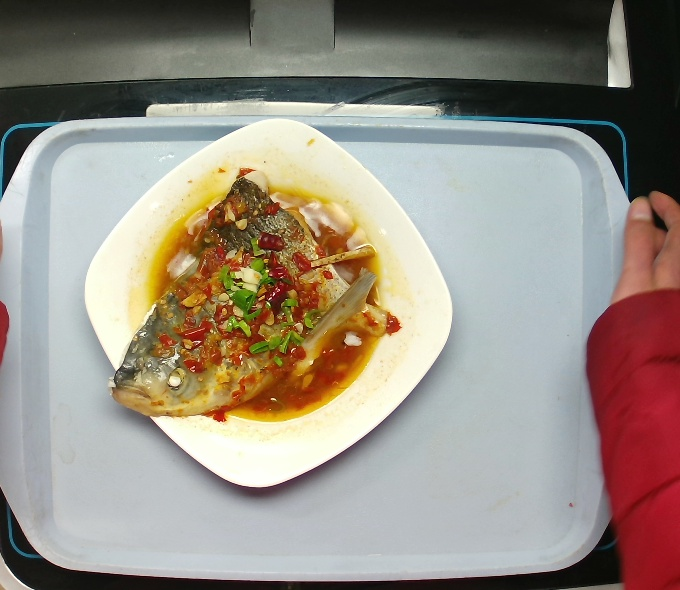wcq-DuoJiaoYuTou: (110, 156, 410, 429)
